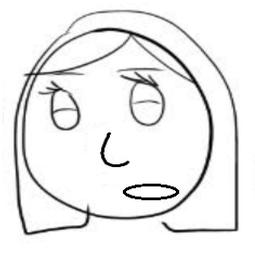eye: (121, 71, 169, 128), (38, 79, 85, 135)
eyebrow: (112, 65, 166, 74), (56, 71, 87, 77)
nose: (93, 130, 131, 173)
open_mouth: (120, 181, 181, 203)
